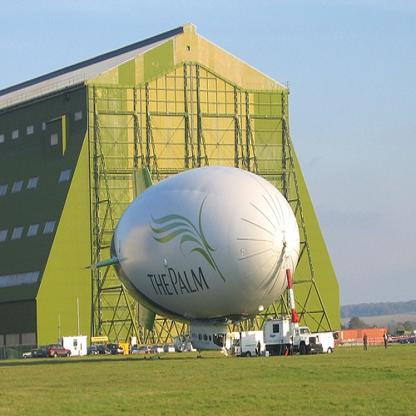Airship: (105, 166, 305, 347)
